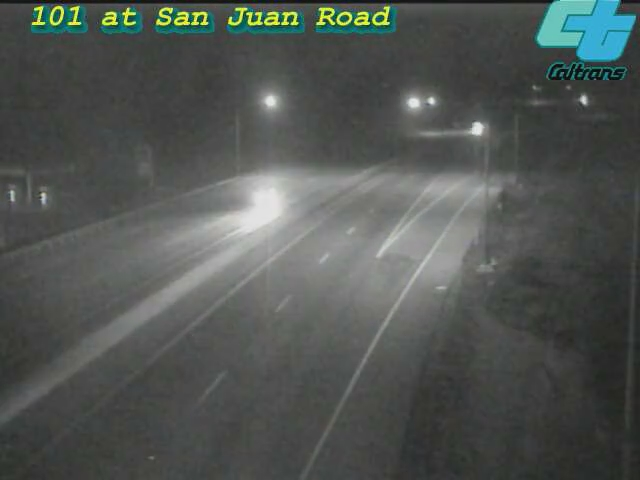vehicle: (226, 160, 306, 240), (454, 104, 504, 154)
